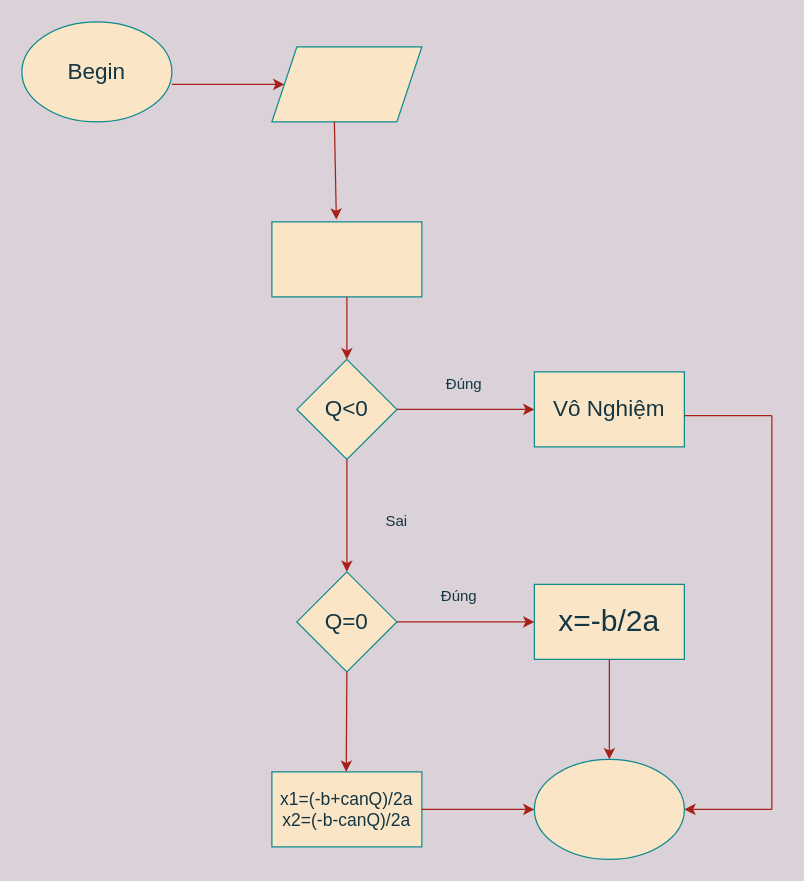
Image size: 804x881. Some labels were removed from this diagram. Each missing label, with the box of its shape:
end: (533, 758, 684, 859)
Nhập a,b và c: (271, 46, 422, 122)
Q=b*b-4*ac: (271, 221, 422, 297)
